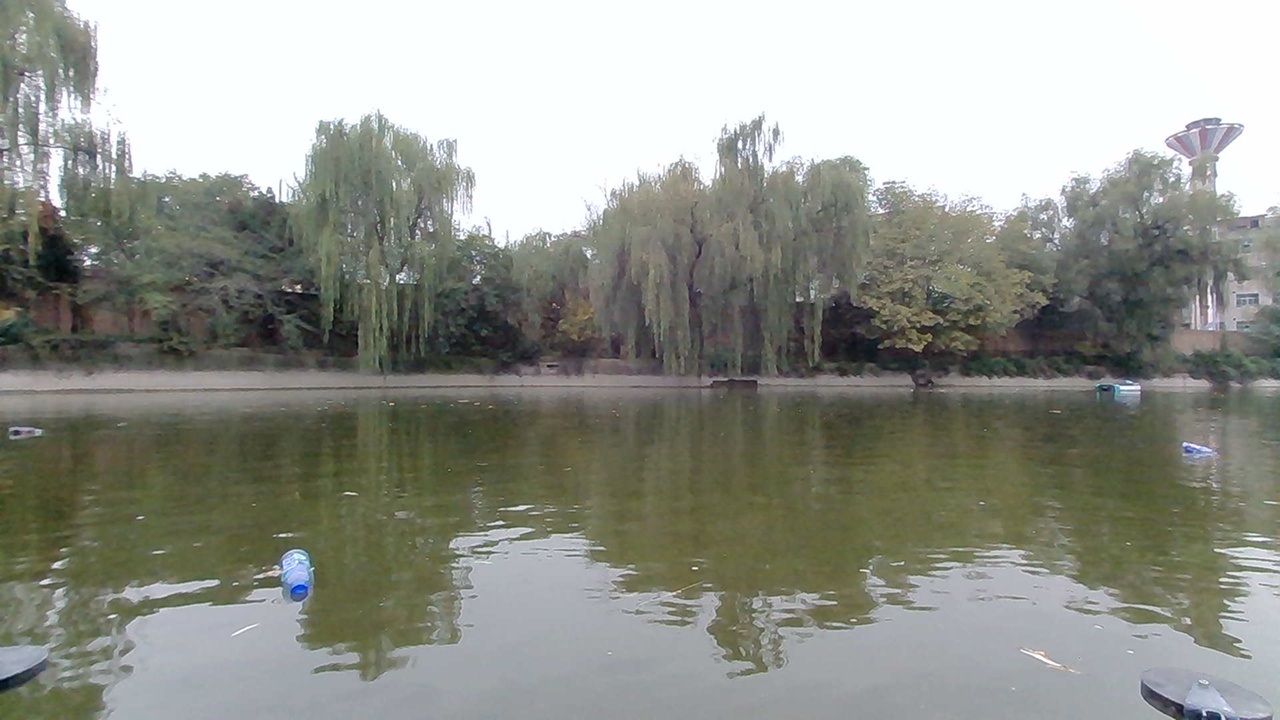bottle: (265, 538, 327, 610), (1178, 435, 1223, 469), (12, 408, 44, 442)
